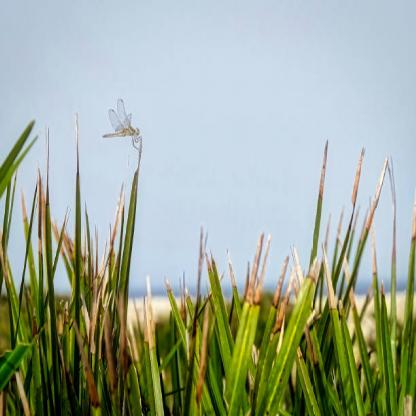sawfly: (102, 91, 143, 155)
